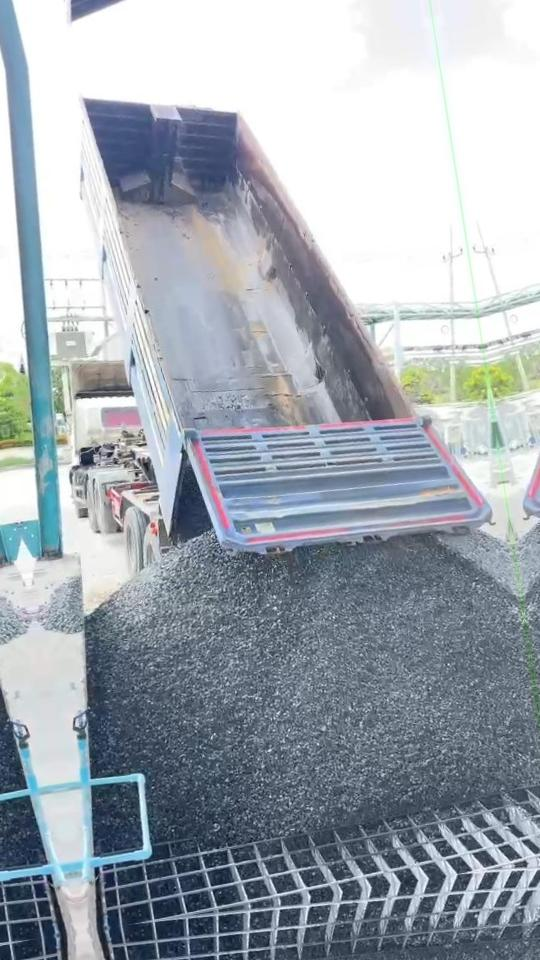gravel: (86, 533, 540, 842), (440, 529, 518, 594), (32, 576, 83, 633), (94, 788, 138, 848)
